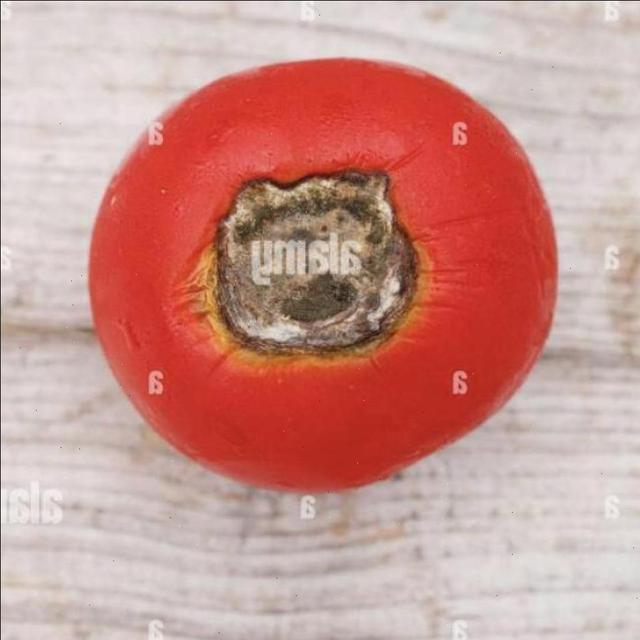Blossom End Rot Fruit: (134, 106, 280, 249)
